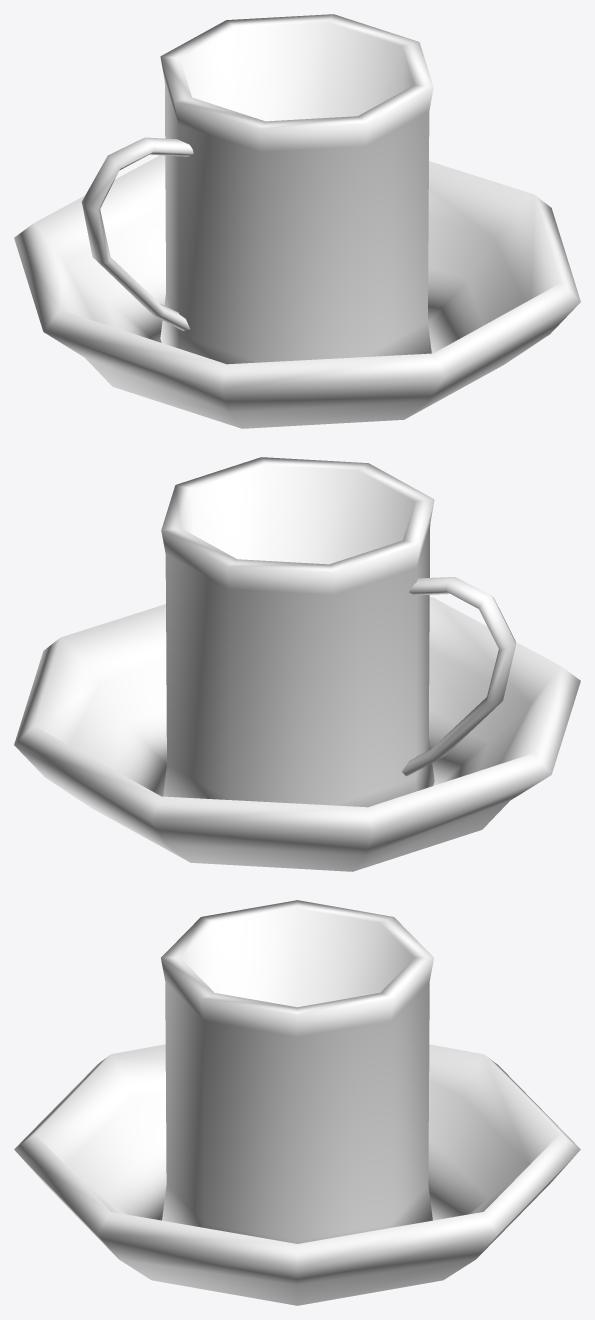
The model's file is HW_Glass 1.fbx.
The picture shows the model from 3 angles, top to bottom: view 1: azimuth 30°, elevation 25°; view 2: azimuth 150°, elevation 25°; view 3: azimuth 270°, elevation 25°; orthographic projection. The views are drawn at different scales.
Parts seen in each view (by area): view 1: prop_HW_Glass; view 2: prop_HW_Glass; view 3: prop_HW_Glass.
Part boxes in pixels (x1=…): prop_HW_Glass: x1=14, y1=14, x2=580, y2=428; prop_HW_Glass: x1=14, y1=457, x2=580, y2=871; prop_HW_Glass: x1=14, y1=900, x2=580, y2=1305.
Bounding box in the file's own units: 0.2102 × 0.1207 × 0.2102.
